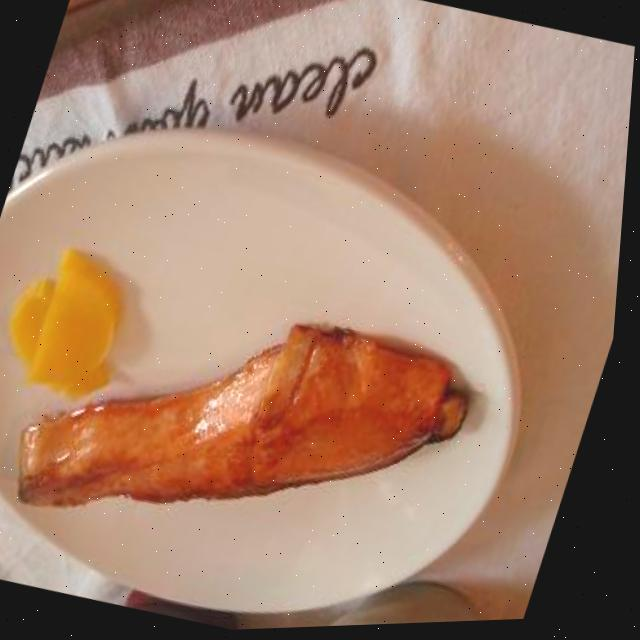熟制海鲜: (0, 227, 539, 625)
